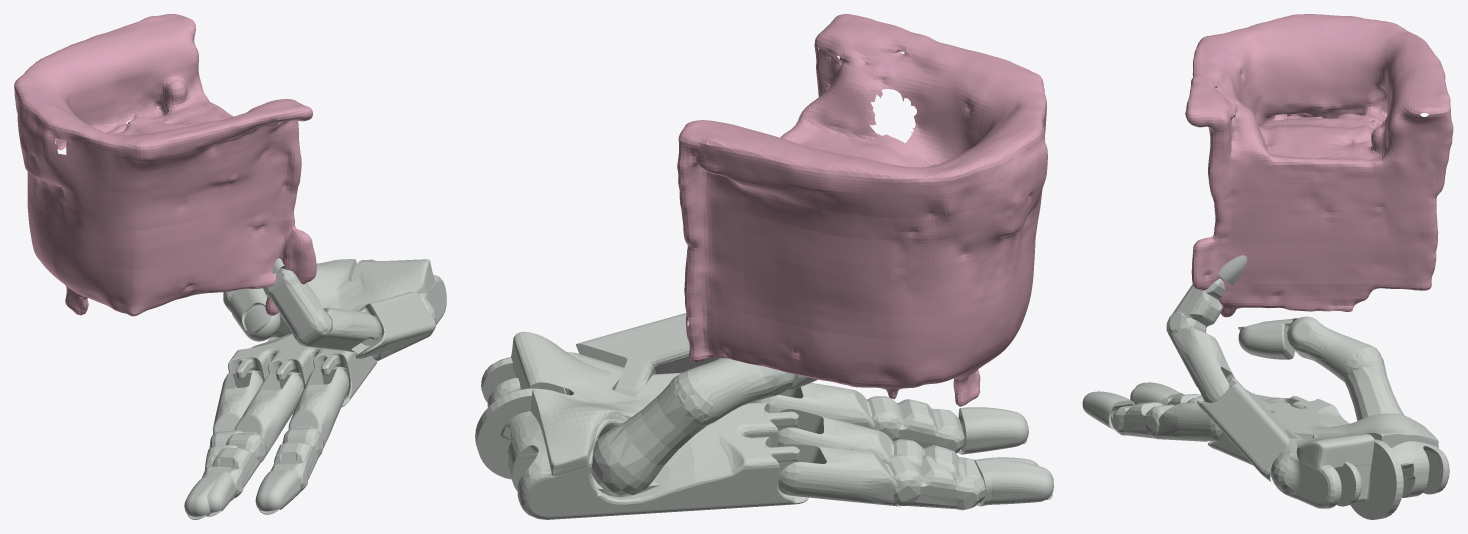
3 renders of one model, left to right at view 1: azimuth 30°, elevation 25°; view 2: azimuth 150°, elevation 25°; view 3: azimuth 270°, elevation 25°, orthographic. The views are drawn at different scales.
Visible parts, largest first — view 1: world, hand; view 2: world, hand; view 3: world, hand.
Part boxes in pixels (x1,y1,x2,y2): world: (14, 14, 316, 316); hand: (184, 258, 446, 519); world: (677, 14, 1047, 406); hand: (475, 313, 1053, 519); world: (1185, 14, 1453, 317); hand: (1082, 255, 1449, 519).
Bounding box in the file's own units: 0.2339 × 0.1946 × 0.1802.
